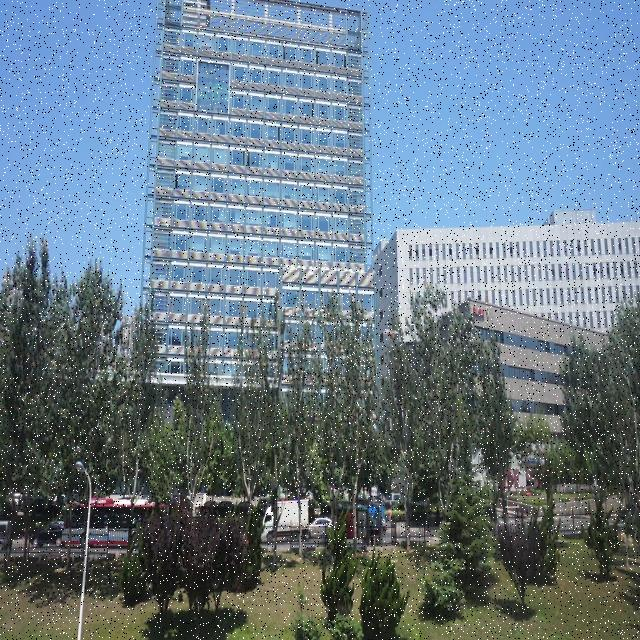UAV: (383, 329, 399, 340)
